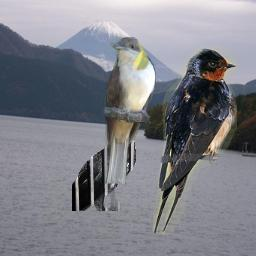Crow: (72, 103, 136, 211)
Cuckoo: (102, 37, 156, 184)
Swallow: (149, 46, 237, 235)
